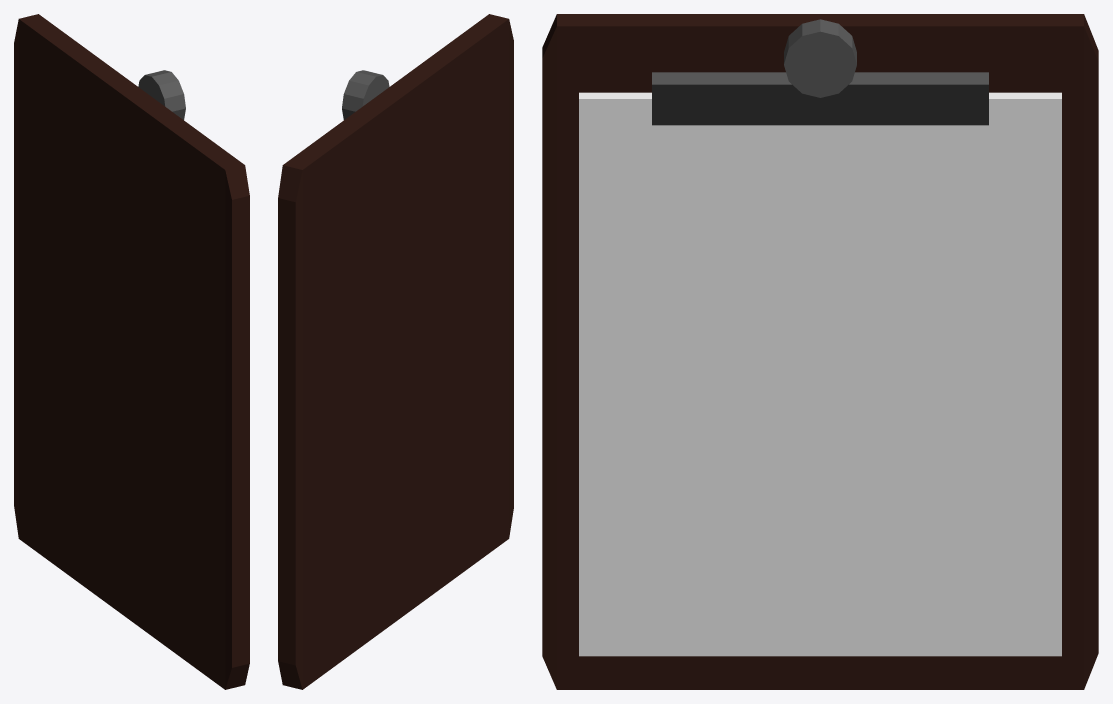
The model's file is Clipboard.fbx.
3 views of the same model, side by side, from view 1: azimuth 30°, elevation 25°; view 2: azimuth 150°, elevation 25°; view 3: azimuth 270°, elevation 25° (orthographic). The views are drawn at different scales.
Visible parts, largest first — view 1: nodes[1]; view 2: nodes[1]; view 3: nodes[1].
Part boxes in pixels (x1=…): nodes[1]: x1=14, y1=14, x2=249, y2=689; nodes[1]: x1=278, y1=14, x2=513, y2=689; nodes[1]: x1=542, y1=14, x2=1098, y2=689.
Bounding box in the file's own units: 0.05 × 0.51 × 0.38.
